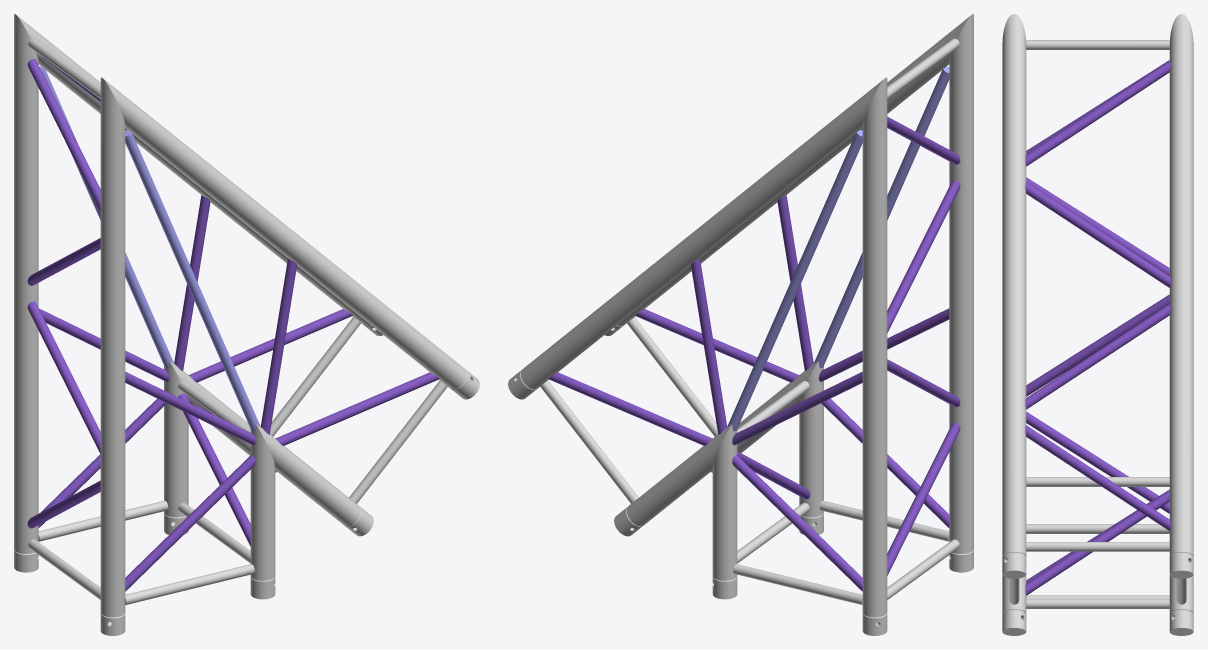
3 renders of one model, left to right at view 1: azimuth 30°, elevation 25°; view 2: azimuth 150°, elevation 25°; view 3: azimuth 270°, elevation 25°, orthographic. The views are drawn at different scales.
Visible parts, largest first — view 1: 260030439; view 2: 260030439; view 3: 260030439.
Boxes of the visible parts, x1,y1,x2,y2 form: 260030439: [14, 14, 479, 635]; 260030439: [508, 14, 973, 635]; 260030439: [1002, 14, 1193, 635].
Size of the model in its own units: 0.8485 by 1.2 by 0.3873.
